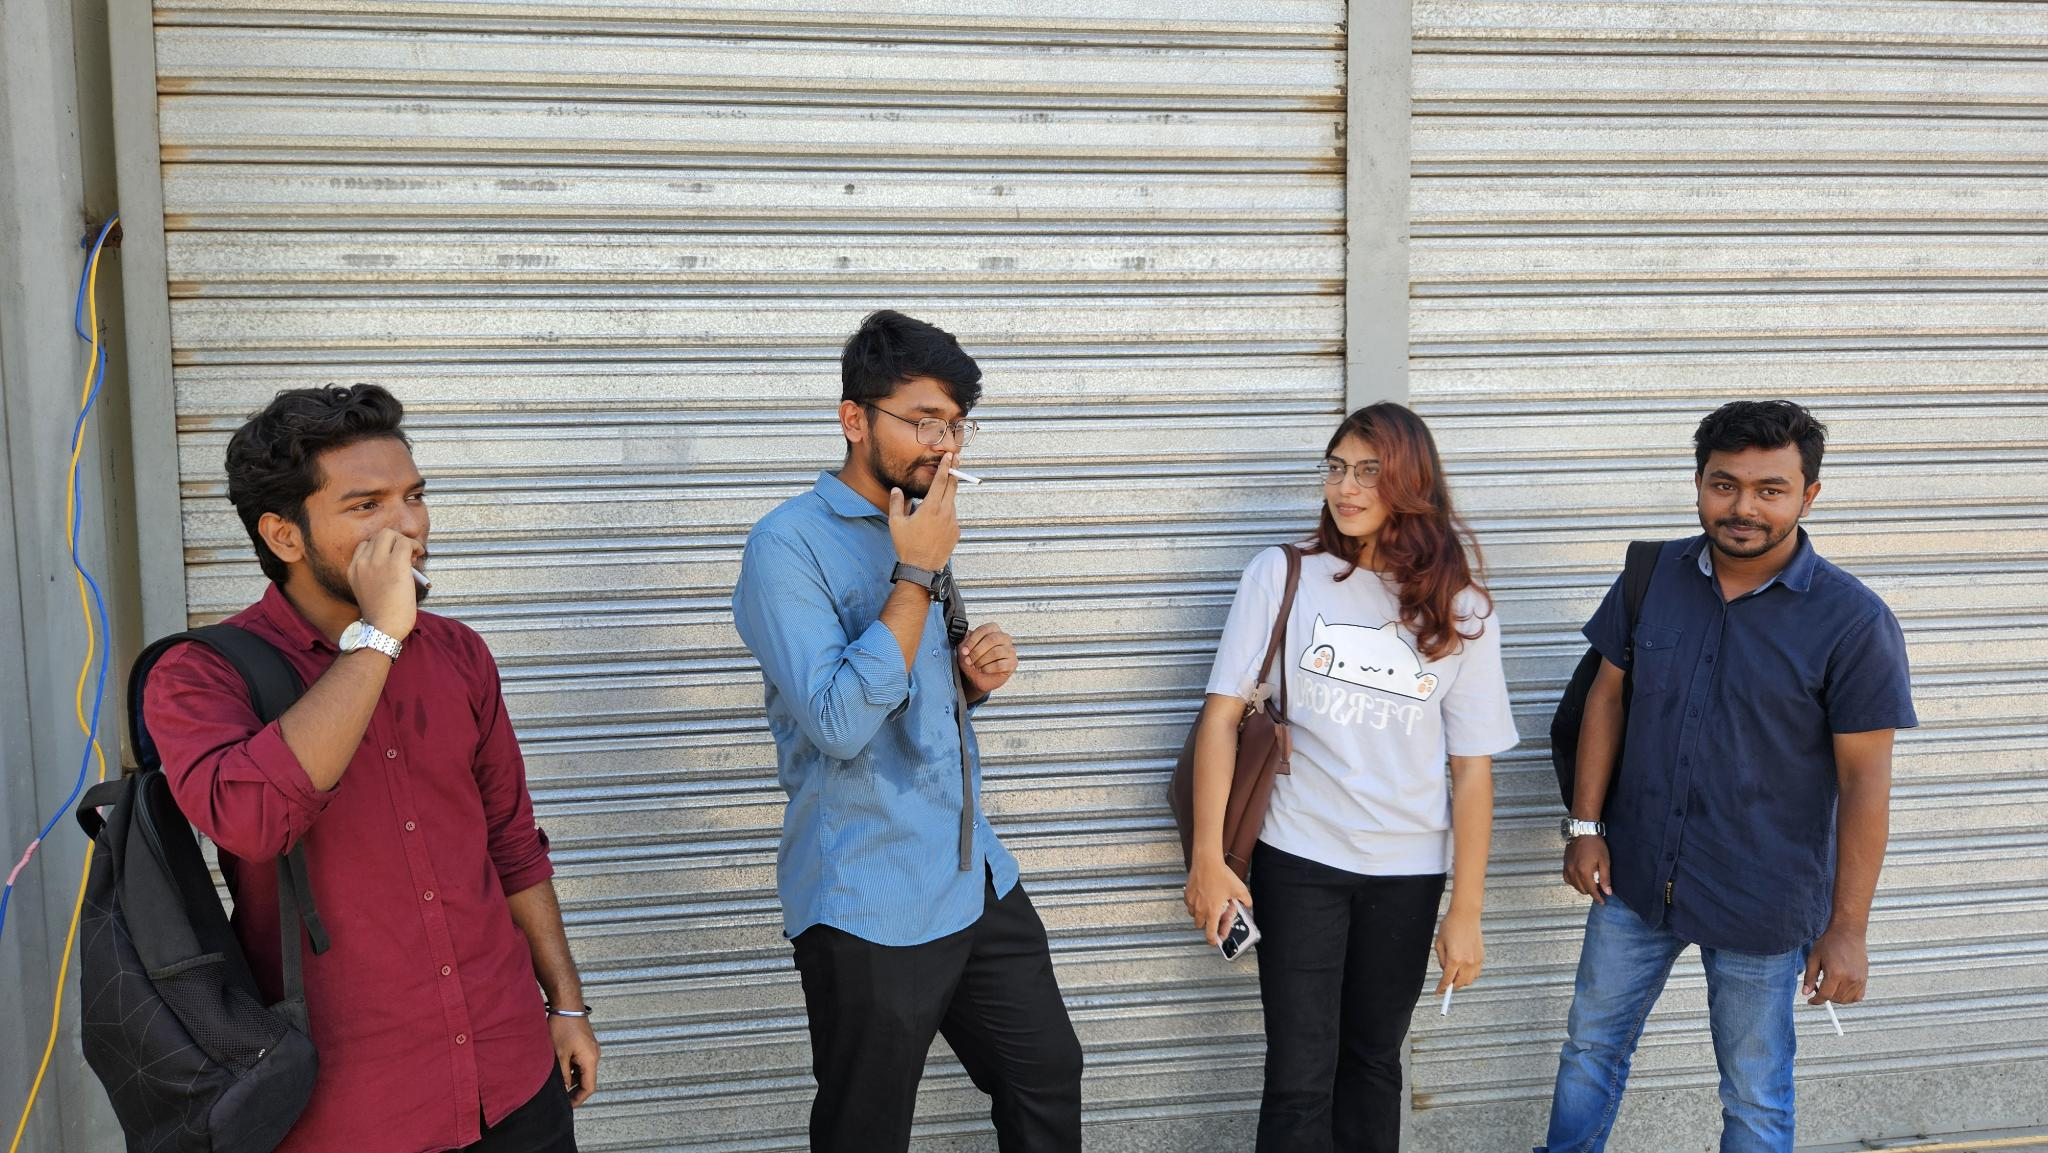cigarette: (937, 463, 985, 487), (1824, 997, 1845, 1039), (409, 564, 435, 591), (1439, 981, 1456, 1019)
smoker: (76, 387, 601, 1153), (731, 311, 1084, 1153), (1546, 399, 1917, 1153), (1175, 405, 1523, 1153)
